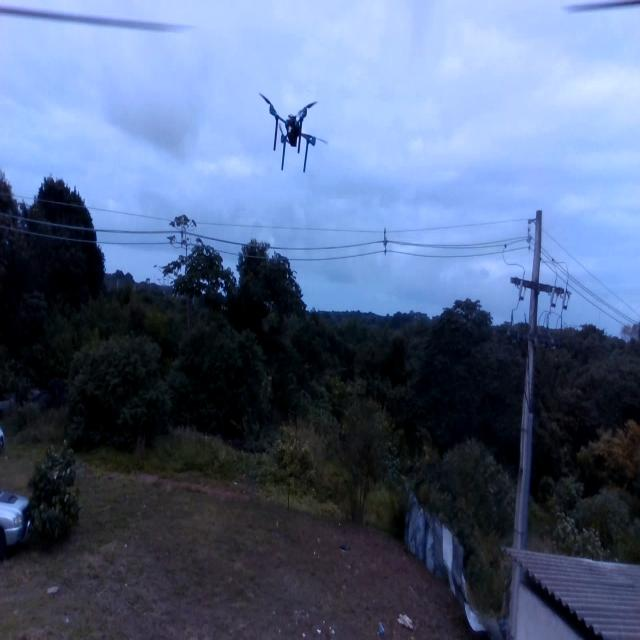-uav-: (256, 80, 332, 187)
